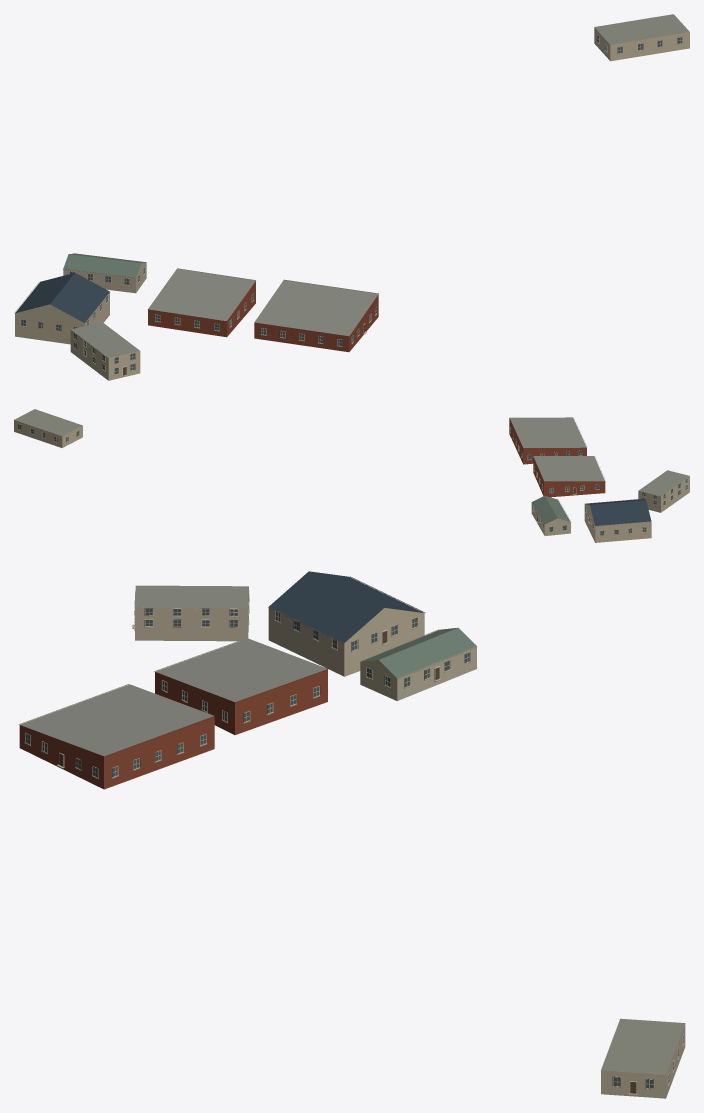
The picture shows the model from 3 angles, top to bottom: view 1: azimuth 30°, elevation 25°; view 2: azimuth 150°, elevation 25°; view 3: azimuth 270°, elevation 25°; orthographic projection. The views are drawn at different scales.
Parts seen in each view (by area): view 1: -7_1_271332435_0, -7_1_271332438_1; view 2: -7_1_271332435_0, -7_1_271332438_1; view 3: -7_1_271332435_0, -7_1_271332438_1.
Boxes of the visible parts, <box> form: -7_1_271332435_0: <box>14,14,689,376</box>; -7_1_271332438_1: <box>15,27,689,380</box>; -7_1_271332435_0: <box>14,409,689,536</box>; -7_1_271332438_1: <box>14,420,689,542</box>; -7_1_271332435_0: <box>18,571,685,1095</box>; -7_1_271332438_1: <box>135,590,685,1098</box>.
Size of the model in its own units: 219 by 15.03 by 113.
